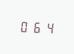four: (43, 20, 54, 34)
six: (31, 19, 42, 34)
zero: (18, 19, 29, 33)
